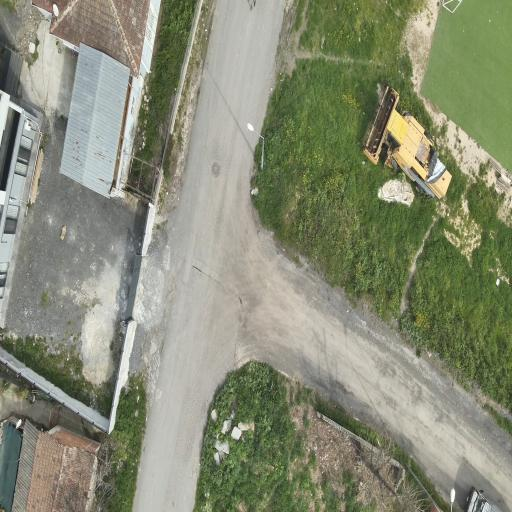car: (465, 487, 500, 511)
harvester: (363, 83, 451, 198)
